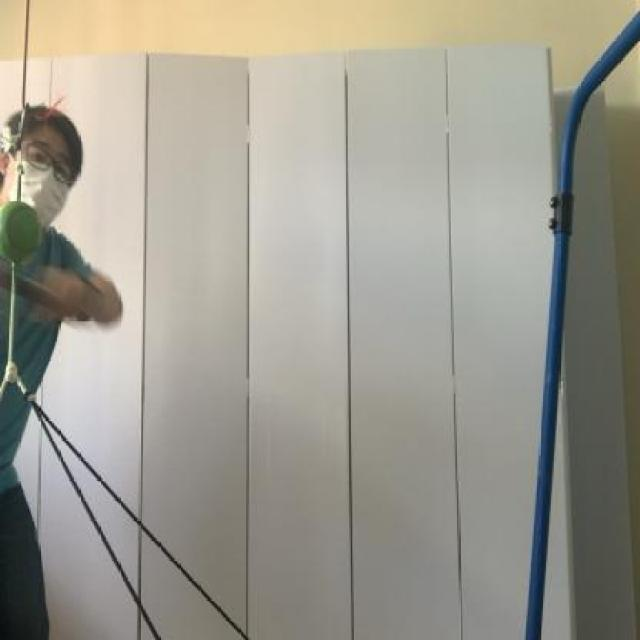baseball: (0, 195, 46, 278)
